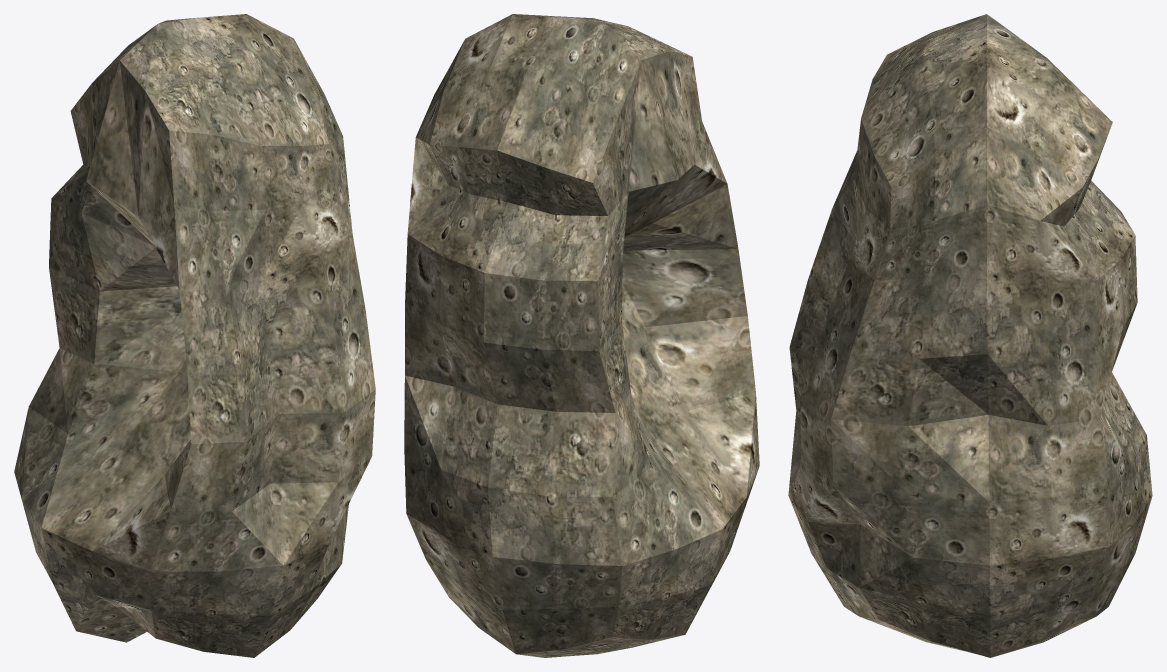
Rendered from asteroid_all_large_02_l0.fbx.
The picture shows the model from 3 angles, left to right: view 1: azimuth 30°, elevation 25°; view 2: azimuth 150°, elevation 25°; view 3: azimuth 270°, elevation 25°; orthographic projection.
Parts seen in each view (by area): view 1: mesh_node; view 2: mesh_node; view 3: mesh_node.
Part boxes in pixels (x1,y1,x2,y2): mesh_node: (14,14,375,657); mesh_node: (404,14,759,657); mesh_node: (788,14,1152,657).
Size of the model in its own units: 73.22 by 147 by 80.05.
